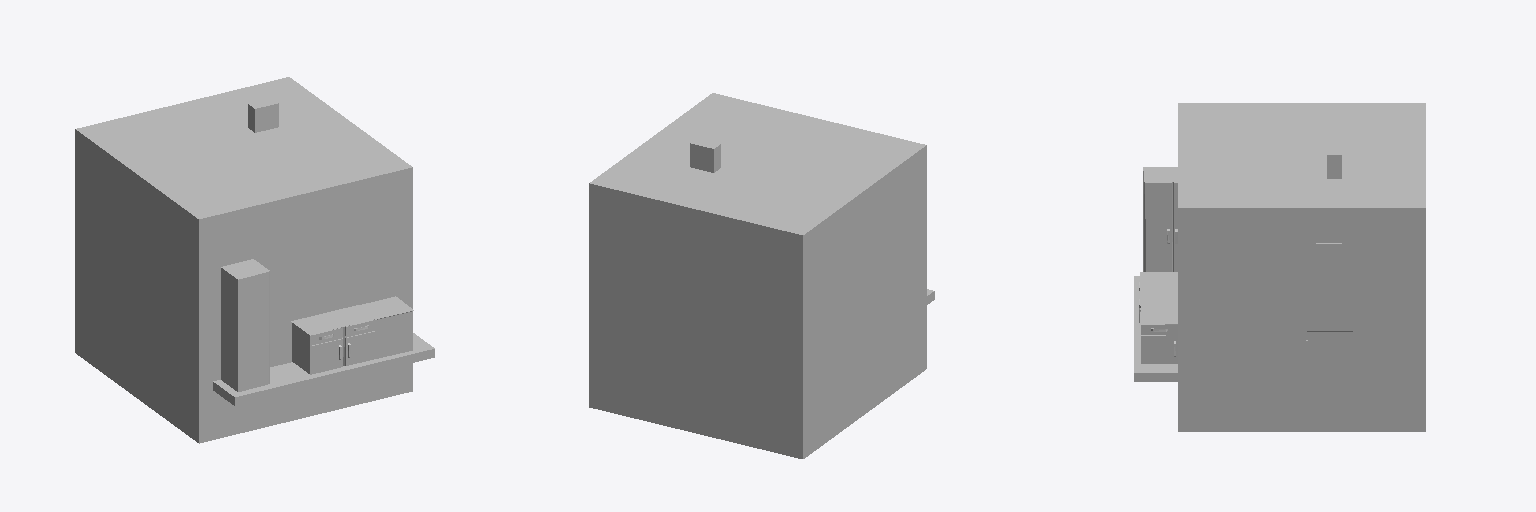
The picture shows the model from 3 angles: view 1: azimuth 30°, elevation 25°; view 2: azimuth 150°, elevation 25°; view 3: azimuth 270°, elevation 25°; orthographic projection.
Visible parts, largest first — view 1: Cube, mesh[number redacted], mesh[number redacted], mesh[number redacted], mesh[number redacted].001, mesh[number redacted]; view 2: Cube, mesh[number redacted]; view 3: Cube, mesh[number redacted], mesh[number redacted], mesh[number redacted].001, mesh[number redacted], mesh[number redacted], mesh[number redacted], mesh[number redacted].
Boxes of the visible parts, x1=… form: Cube: x1=75, y1=77, x2=412, y2=443; mesh[number redacted]: x1=221, y1=259, x2=269, y2=391; mesh[number redacted]: x1=291, y1=305, x2=377, y2=374; mesh[number redacted]: x1=213, y1=333, x2=434, y2=405; mesh[number redacted].001: x1=361, y1=296, x2=413, y2=358; mesh[number redacted]: x1=248, y1=98, x2=278, y2=132; Cube: x1=589, y1=93, x2=926, y2=458; mesh[number redacted]: x1=690, y1=138, x2=720, y2=172; Cube: x1=1178, y1=103, x2=1425, y2=431; mesh[number redacted]: x1=1143, y1=167, x2=1177, y2=271; mesh[number redacted]: x1=1134, y1=276, x2=1349, y2=381; mesh[number redacted].001: x1=1140, y1=306, x2=1177, y2=363; mesh[number redacted]: x1=1306, y1=331, x2=1352, y2=368; mesh[number redacted]: x1=1140, y1=272, x2=1177, y2=305; mesh[number redacted]: x1=1316, y1=243, x2=1341, y2=272; mesh[number redacted]: x1=1327, y1=143, x2=1341, y2=178.
Bounding box in the file's own units: 2.02 × 2.21 × 2.35.